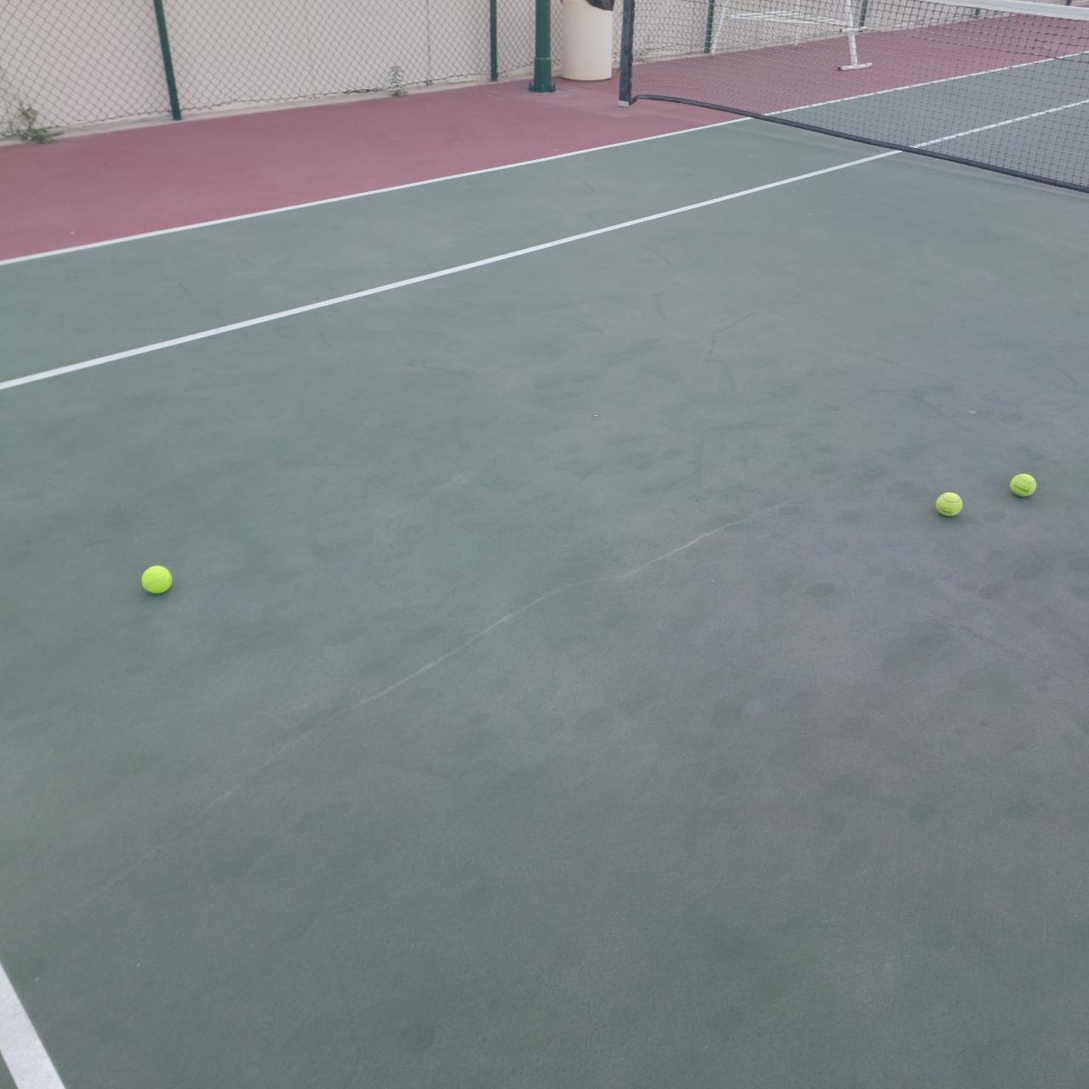tennis-ball: (140, 562, 174, 595), (934, 489, 964, 517), (1007, 470, 1037, 498)
